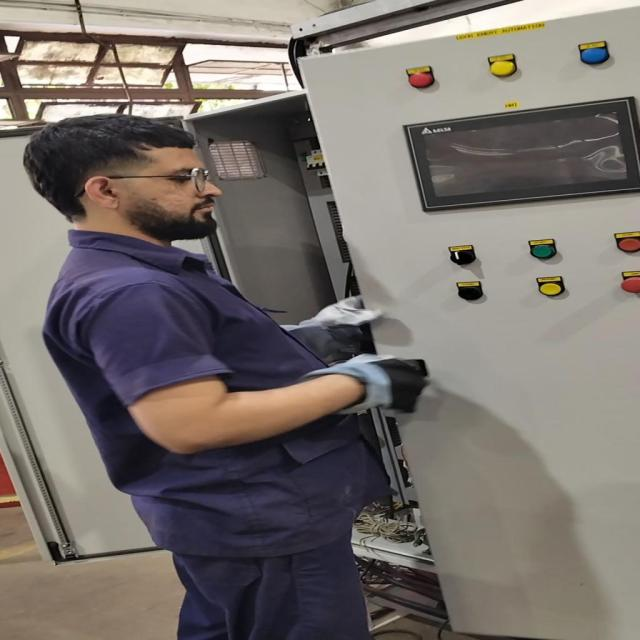Gloves-Detection: (312, 363, 441, 416), (279, 309, 376, 343)
